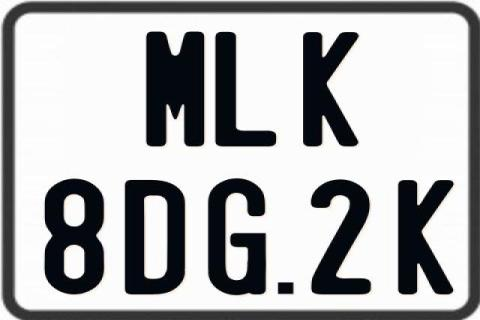0: (41, 178, 107, 296), (308, 177, 373, 293)
D: (125, 178, 186, 294)
G: (206, 179, 265, 297)
K: (398, 180, 460, 297), (303, 30, 362, 144)
L: (215, 32, 279, 146)
M: (145, 29, 209, 149)
